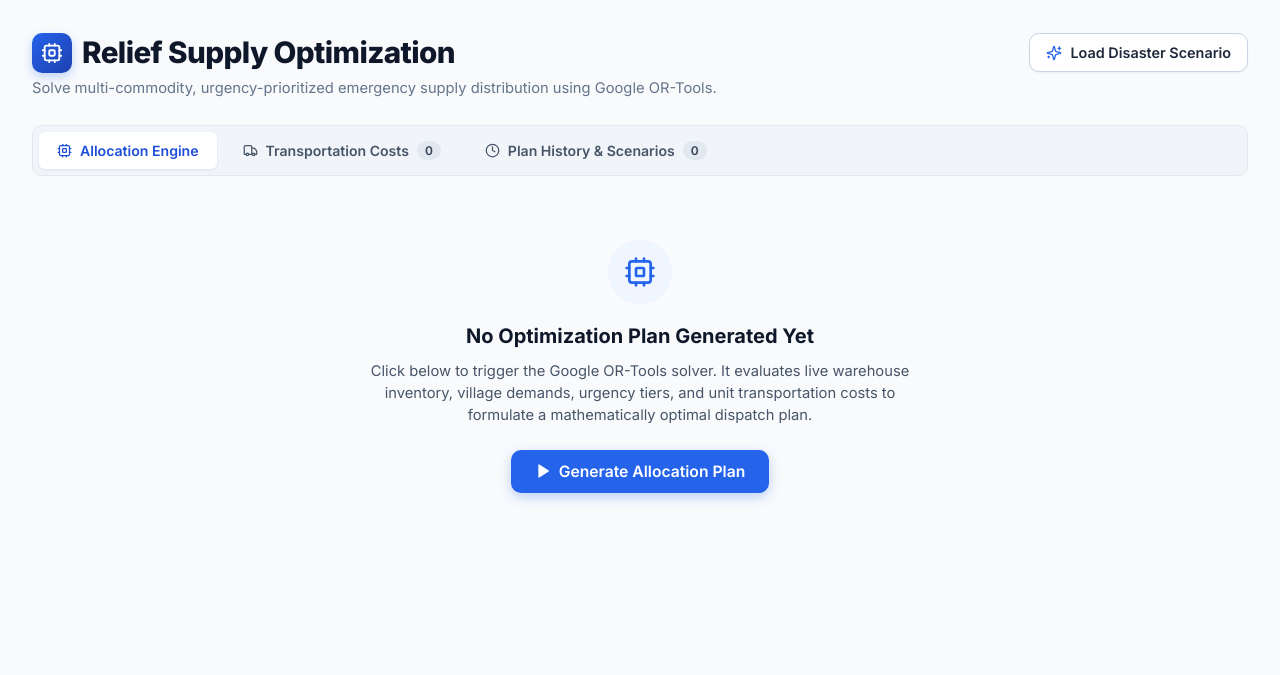
it: Optimization Engine Page (OptimizationPage.jsx) › Historical Plan Inspection & Consistency › inspecting Run 26 displays ₹91,613.70 and 18 allocations
Click the button "Plan History & Scenarios 0": (596, 150) top-left (467, 132), bottom-right (725, 168)
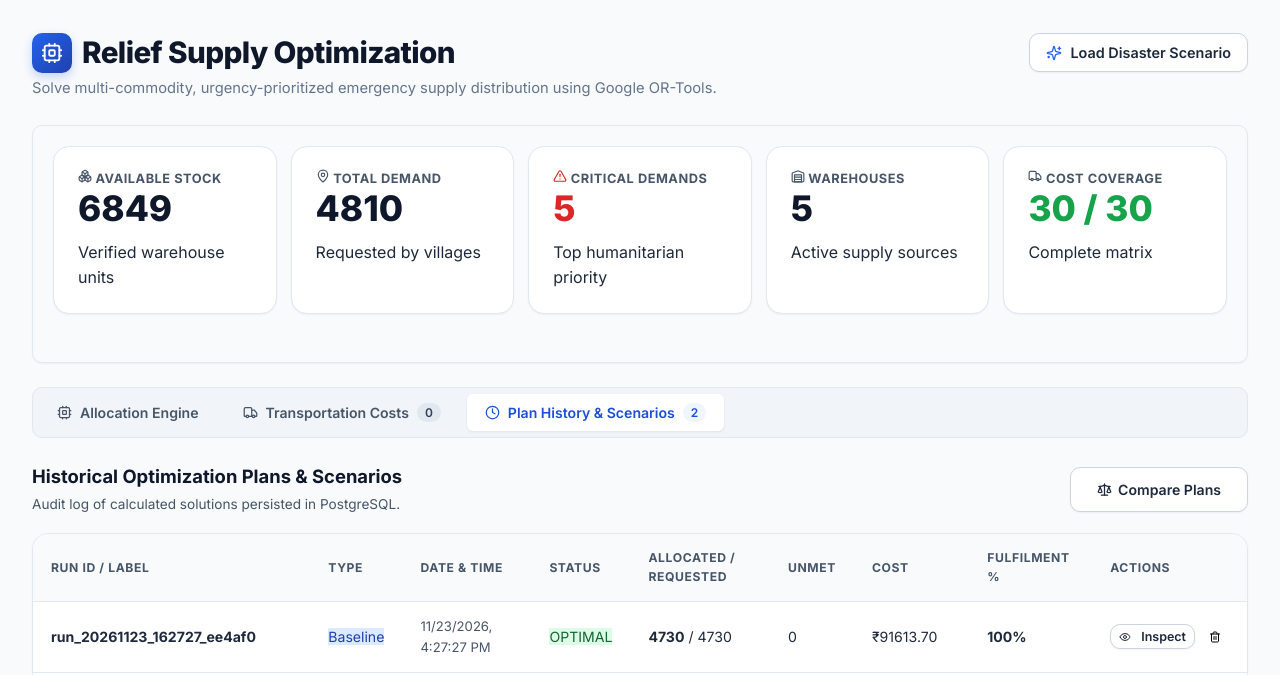
expect the text "run_20261123_162727_ee4af0" is shown: met, box top-left (51, 628), bottom-right (256, 645)
Click the button "Inspect" in the row of "run_20261123_162727_ee4af0": (1153, 637) top-left (1110, 624), bottom-right (1195, 649)
(page scrolled)
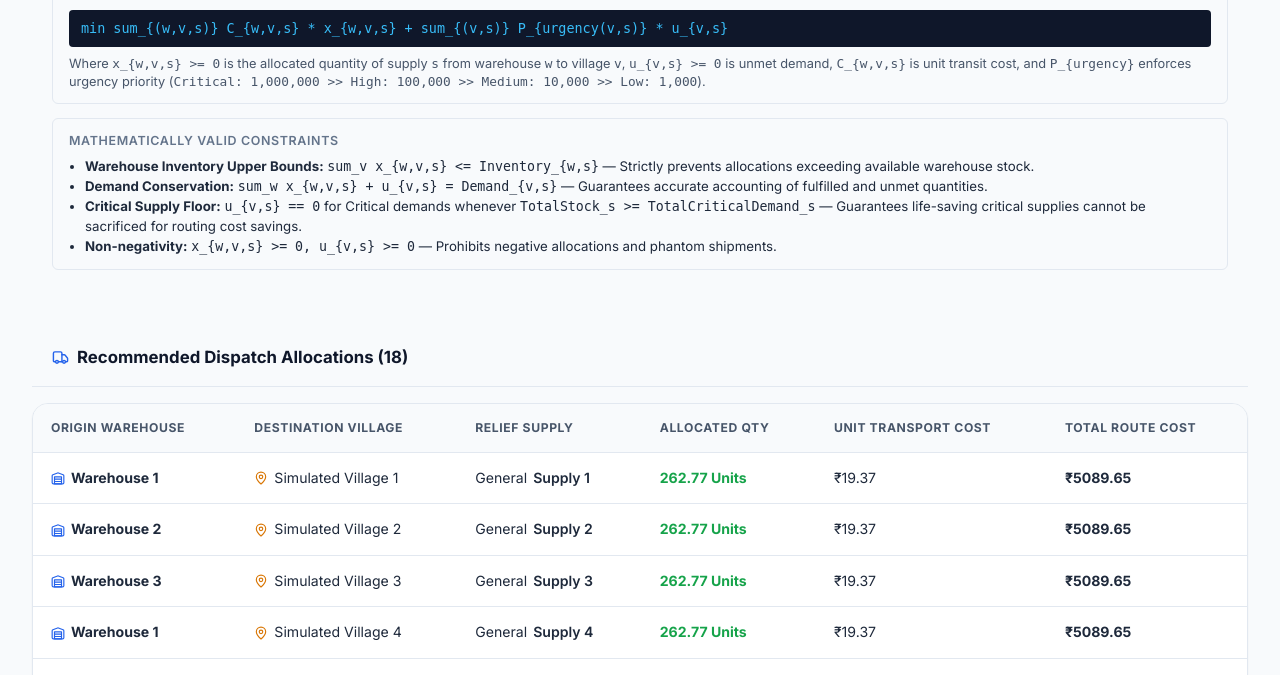
expect the heading "Recommended Dispatch Allocations (18)" is shown: met, box top-left (77, 344), bottom-right (408, 370)
